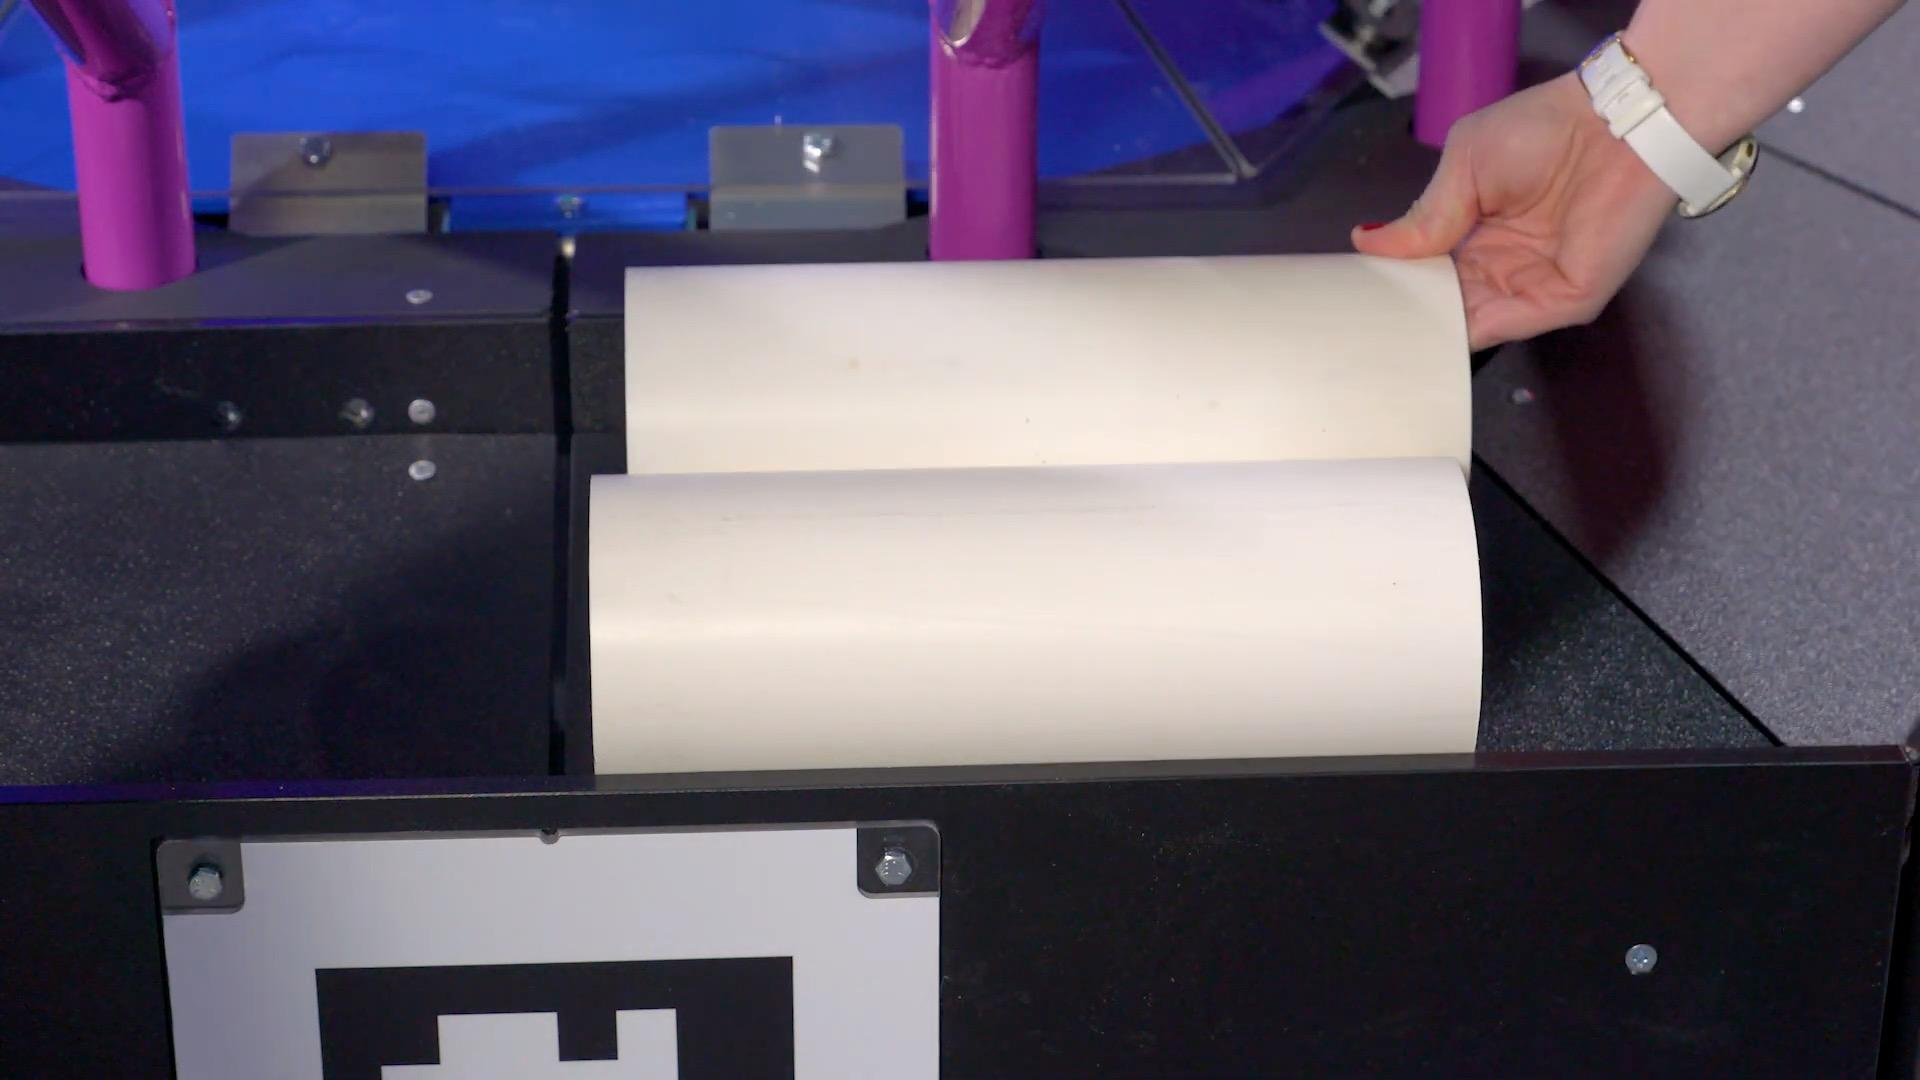CORAL: (585, 456, 1485, 774), (620, 249, 1475, 473)
